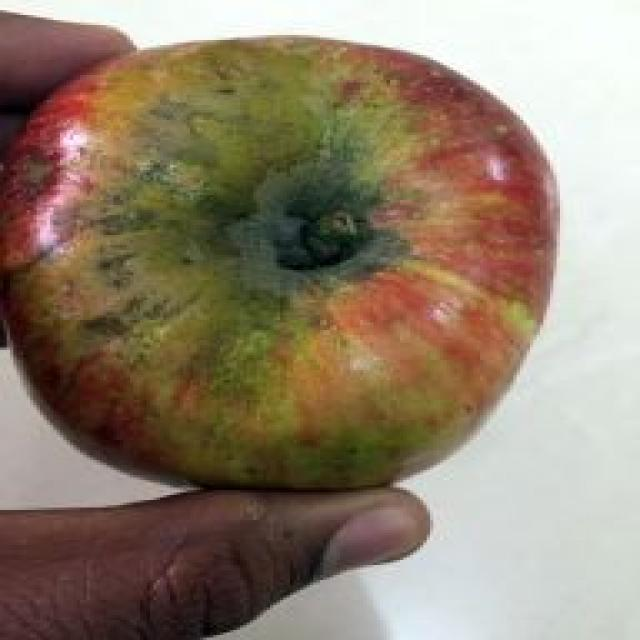Bad_Apple: (3, 38, 550, 488)
